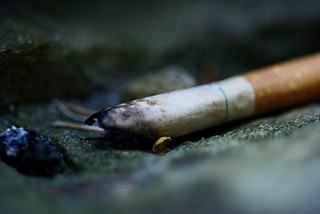cigarette: (83, 48, 320, 155)
